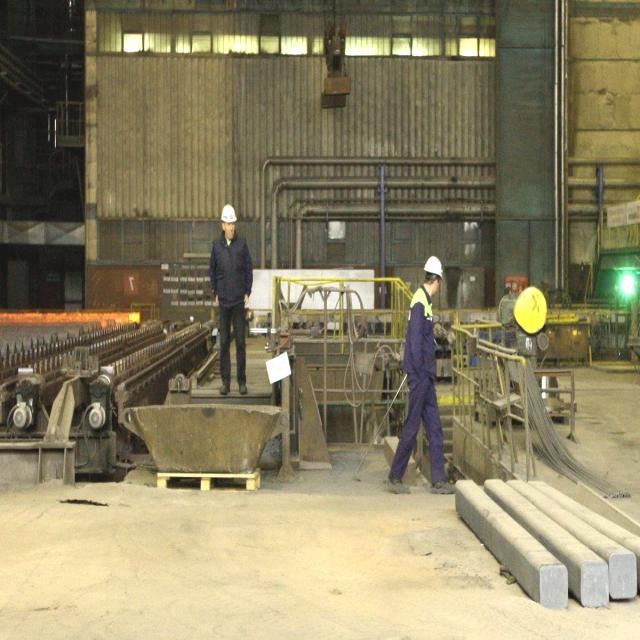face_nomask: (220, 219, 239, 243)
head_helmet: (424, 255, 445, 276), (220, 204, 238, 223)
person: (390, 257, 447, 497), (213, 205, 253, 398)
shoes: (384, 468, 414, 500), (431, 475, 462, 499), (216, 380, 232, 399), (237, 378, 250, 400)
